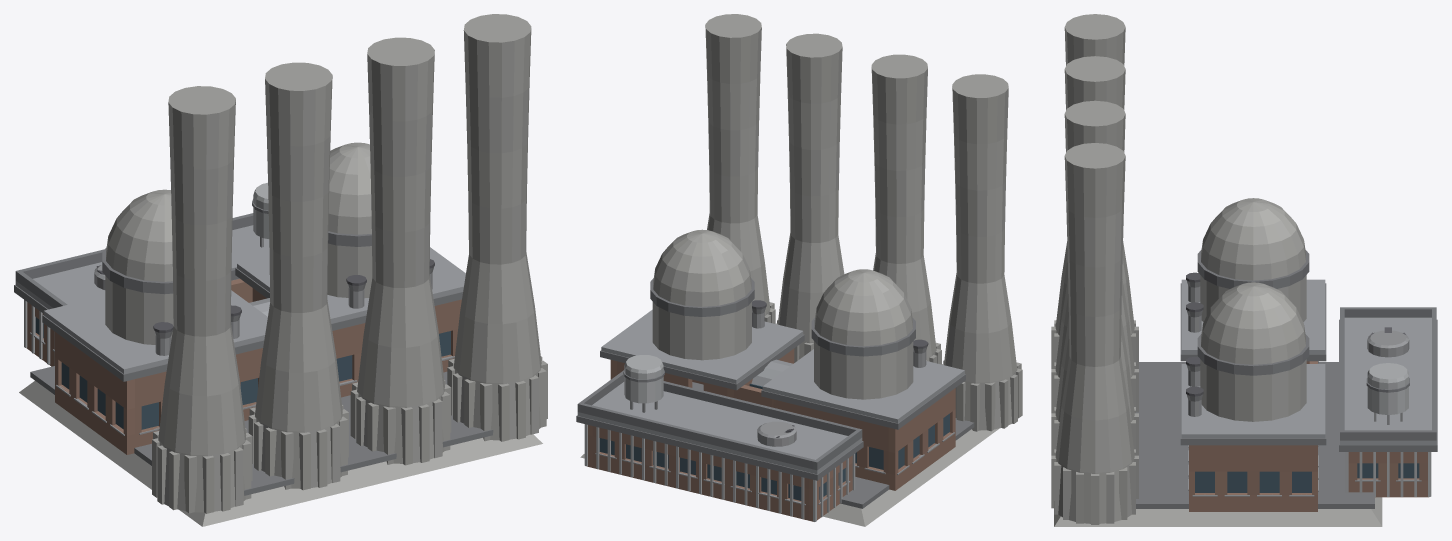
Rendered from chinese_nuclear.glb.
3 renders of one model, left to right at view 1: azimuth 30°, elevation 25°; view 2: azimuth 150°, elevation 25°; view 3: azimuth 270°, elevation 25°, orthographic. The views are drawn at different scales.
Visible parts, largest first — view 1: cool0_tower, cool3_tower, cool2_tower, cool1_tower, plinth, unitl_wall, unitl_deck, shieldl_dome, cool0_tower_legs, cool2_tower_legs, cool1_tower_legs, cool3_tower_legs (+18 smaller); view 2: cool0_tower, cool2_tower, cool1_tower, cool3_tower, aux_deck, aux_wall, unitl_wall, shieldl_dome, shieldr_dome, aux_parapet, unitl_deck, unitr_deck (+17 smaller); view 3: cool3_tower, plinth_cap, aux_deck, unitr_wall, shieldl_dome, shieldr_dome, containmentr, unitr_deck, plinth, cool1_tower, cool2_tower, cool0_tower (+20 smaller).
Boxes of the visible parts, x1,y1,x2,y2 form: cool0_tower: [158, 86, 246, 512]; cool3_tower: [453, 14, 541, 440]; cool2_tower: [357, 37, 444, 463]; cool1_tower: [255, 62, 342, 488]; plinth: [19, 381, 542, 526]; unitl_wall: [55, 278, 262, 454]; unitl_deck: [43, 290, 267, 373]; shieldl_dome: [106, 189, 172, 281]; cool0_tower_legs: [152, 428, 252, 513]; cool2_tower_legs: [350, 380, 451, 465]; cool1_tower_legs: [248, 405, 348, 490]; cool3_tower_legs: [447, 356, 547, 441]; cool0_tower: [944, 74, 1017, 430]; cool2_tower: [777, 33, 844, 359]; cool1_tower: [871, 54, 936, 361]; cool3_tower: [705, 14, 770, 315]; aux_deck: [577, 382, 862, 474]; aux_wall: [587, 425, 852, 521]; unitl_wall: [703, 383, 955, 490]; shieldl_dome: [814, 269, 912, 346]; shieldr_dome: [653, 229, 751, 306]; aux_parapet: [577, 371, 862, 470]; unitl_deck: [762, 349, 964, 423]; unitr_deck: [601, 309, 803, 383]; cool3_tower: [1053, 143, 1134, 523]; plinth_cap: [1136, 362, 1374, 508]; aux_deck: [1340, 317, 1436, 444]; unitr_wall: [1189, 445, 1317, 511]; shieldl_dome: [1201, 198, 1305, 280]; shieldr_dome: [1201, 282, 1305, 364]; containmentr: [1200, 359, 1306, 421]; unitr_deck: [1181, 364, 1325, 438]; plinth: [1054, 497, 1382, 526]; cool1_tower: [1055, 56, 1134, 377]; cool2_tower: [1055, 100, 1134, 421]; cool0_tower: [1055, 14, 1134, 335].
Size of the model in its own units: 33.47 by 34 by 32.93.
